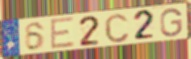2: (130, 8, 158, 43), (78, 15, 101, 48)
6: (24, 21, 47, 51)
C: (103, 12, 131, 44)
E: (49, 16, 76, 51)
G: (159, 7, 183, 38)
